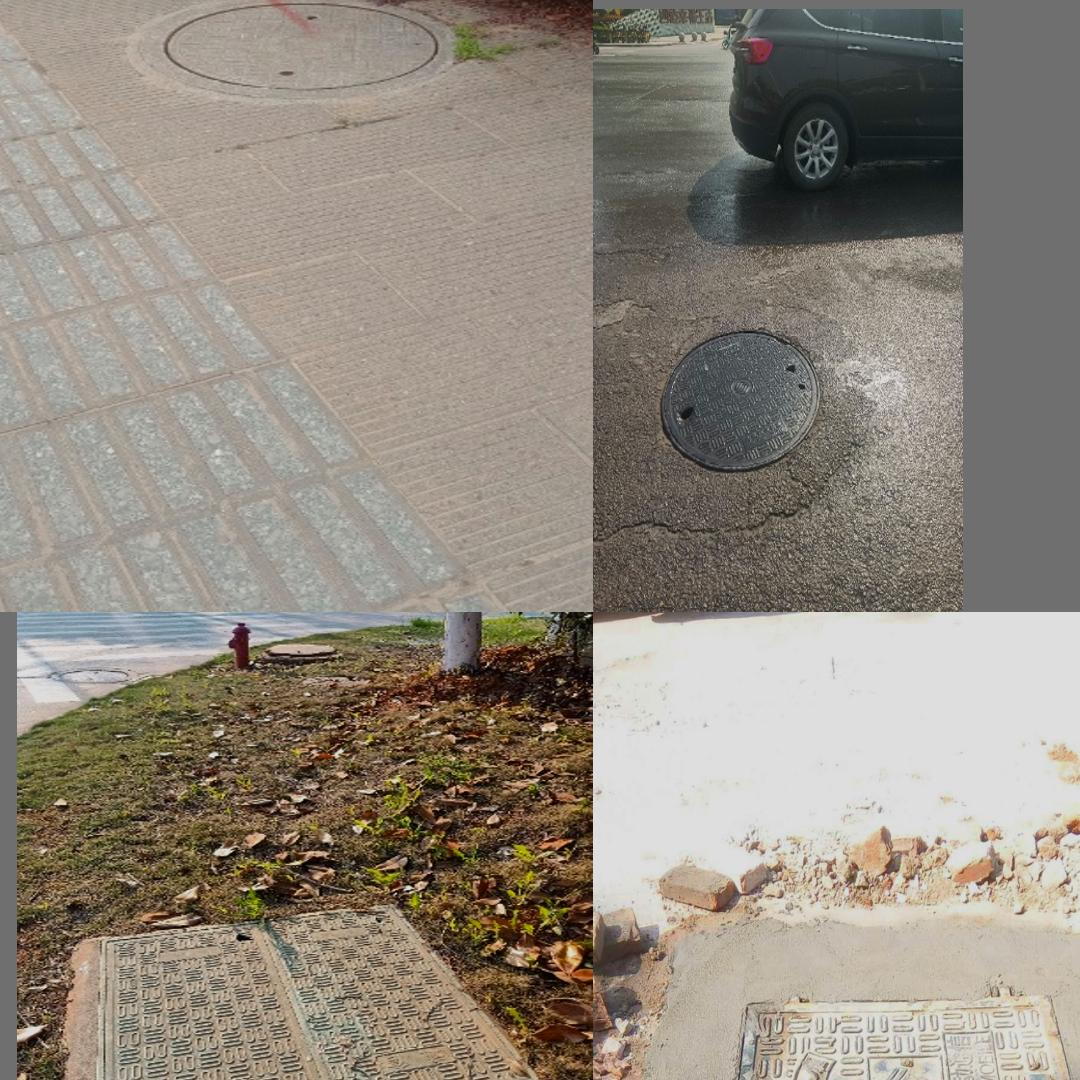good: (92, 901, 543, 1080), (722, 987, 1080, 1080), (137, 0, 452, 93), (660, 327, 819, 470)
